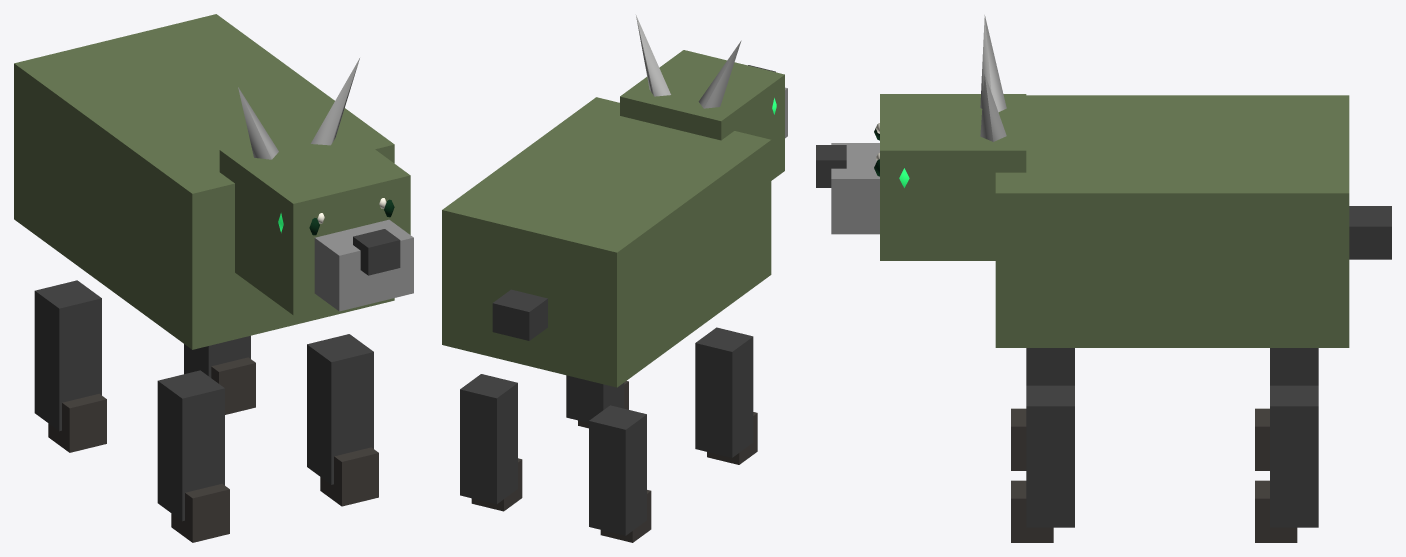
File: RescueBuckB.glb
3 views of the same model, side by side, from view 1: azimuth 30°, elevation 25°; view 2: azimuth 150°, elevation 25°; view 3: azimuth 270°, elevation 25° (orthographic). The views are drawn at different scales.
Visible parts, largest first — view 1: RescueBuckBody; view 2: RescueBuckBody; view 3: RescueBuckBody.
Part boxes in pixels (box(x1,y1,x2,y2)): RescueBuckBody: box(14, 14, 413, 542); RescueBuckBody: box(442, 15, 787, 542); RescueBuckBody: box(816, 15, 1391, 542).
Bounding box in the file's own units: 0.38 × 0.8225 × 0.945.
